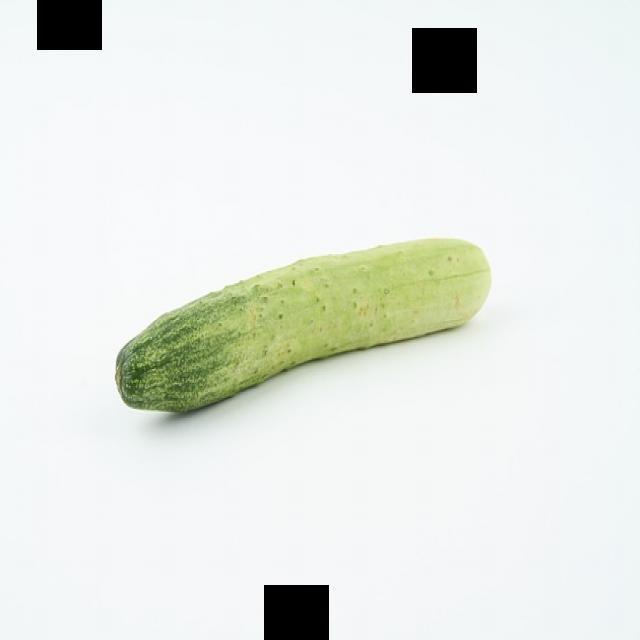cucumber: (96, 220, 508, 433)
